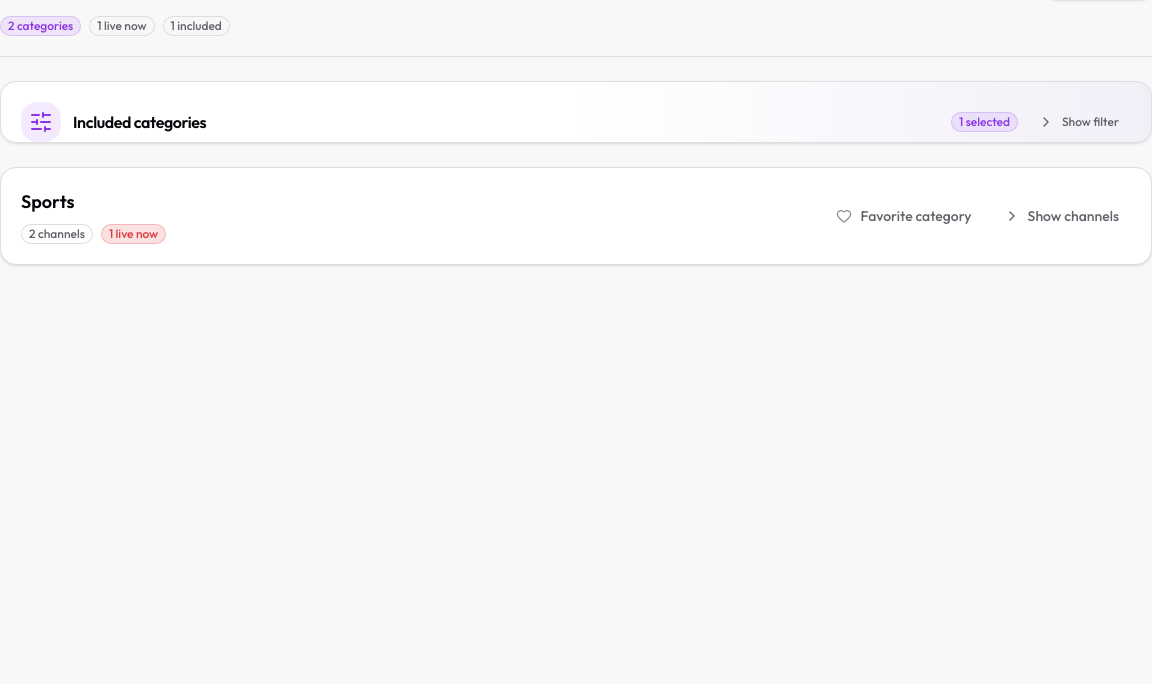
Test: GuidePage › applies the custom filter on top of the selected categories
Click the button "Show filter".
click(1078, 122)  # box [1026, 106, 1131, 138]
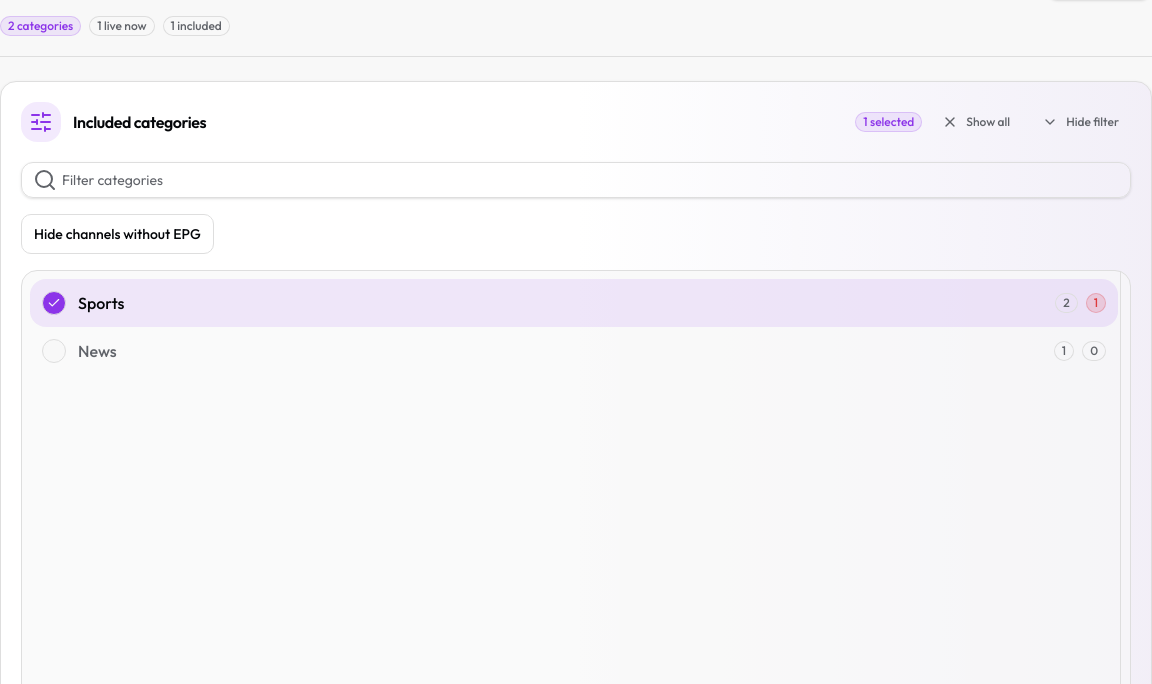
Type "news" into the field with placeholder "Filter categories".
click(576, 180); type("news")  # box [21, 162, 1131, 198]
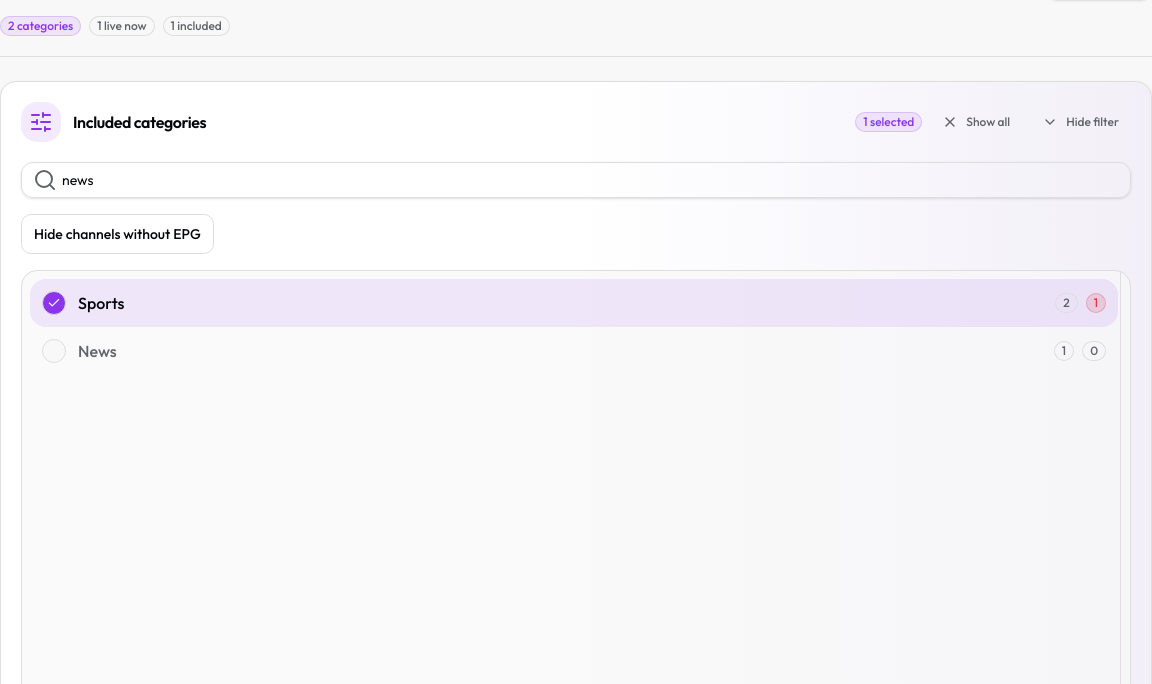
Press Enter in the field with placeholder "Filter categories", box [21, 162, 1131, 198]
(page scrolled)
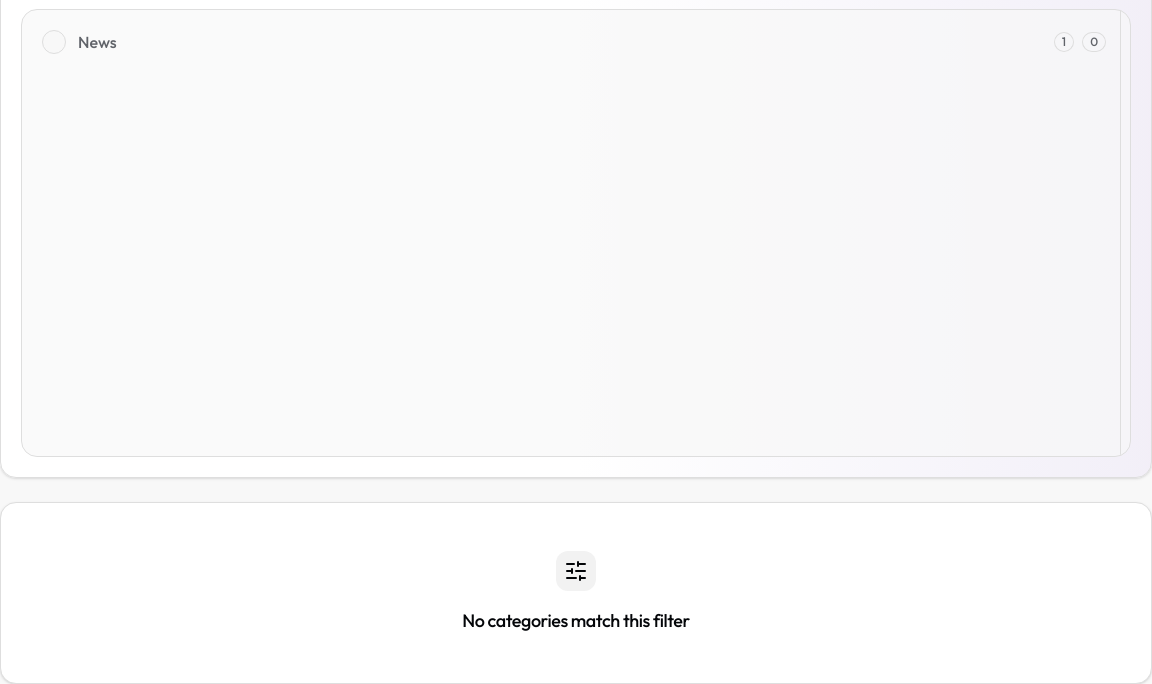
Expected: the button "News 1 0" is shown, [30, 18, 1118, 66]
Expected: the button "Sports" is gone
Expected: no buttons "show channels" are shown
